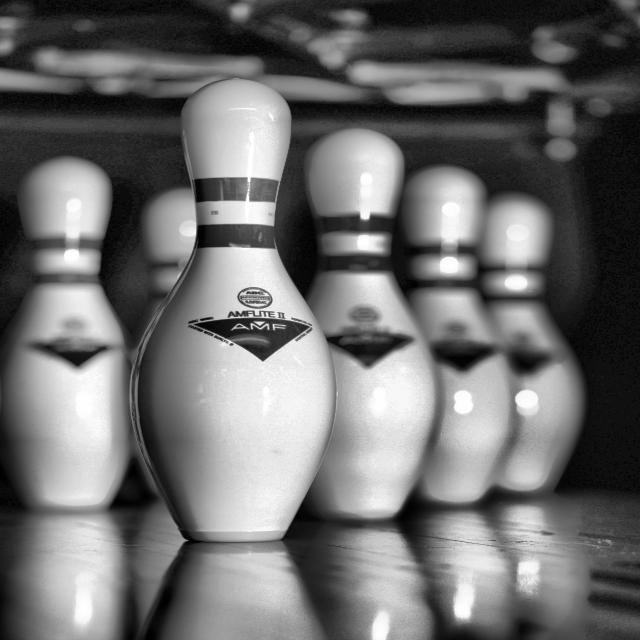bowling-pins: (131, 79, 335, 543), (307, 130, 438, 522), (1, 158, 127, 511), (404, 166, 514, 506), (484, 195, 584, 495), (140, 188, 196, 334)
